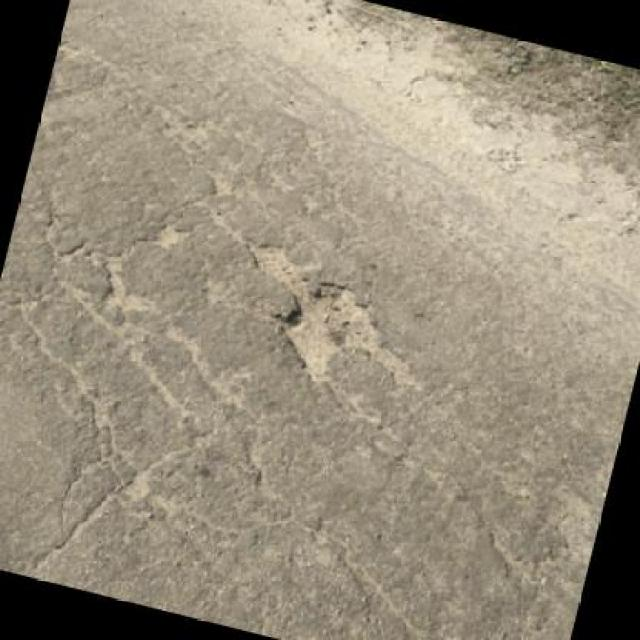pothole1: (218, 234, 434, 403)
